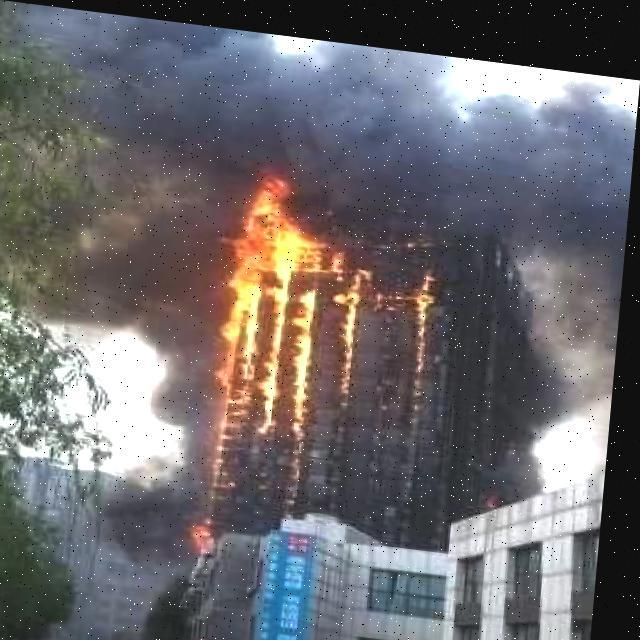Fire: (222, 164, 448, 432)
